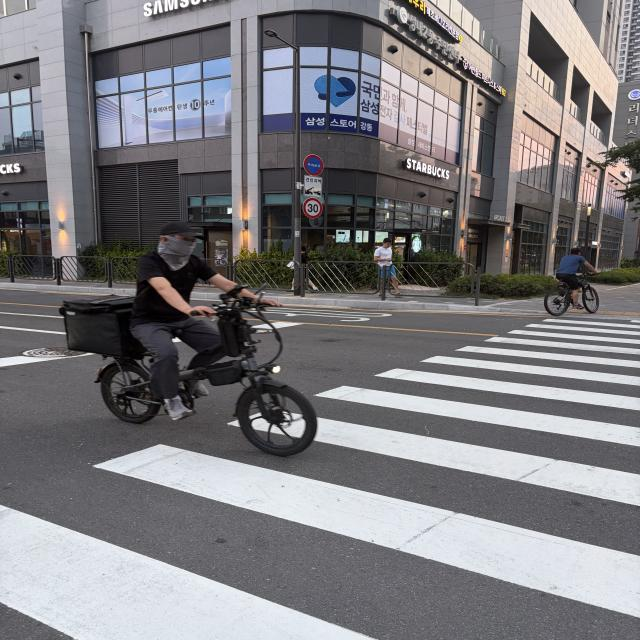bicycle: (51, 205, 371, 470), (522, 228, 630, 331)
